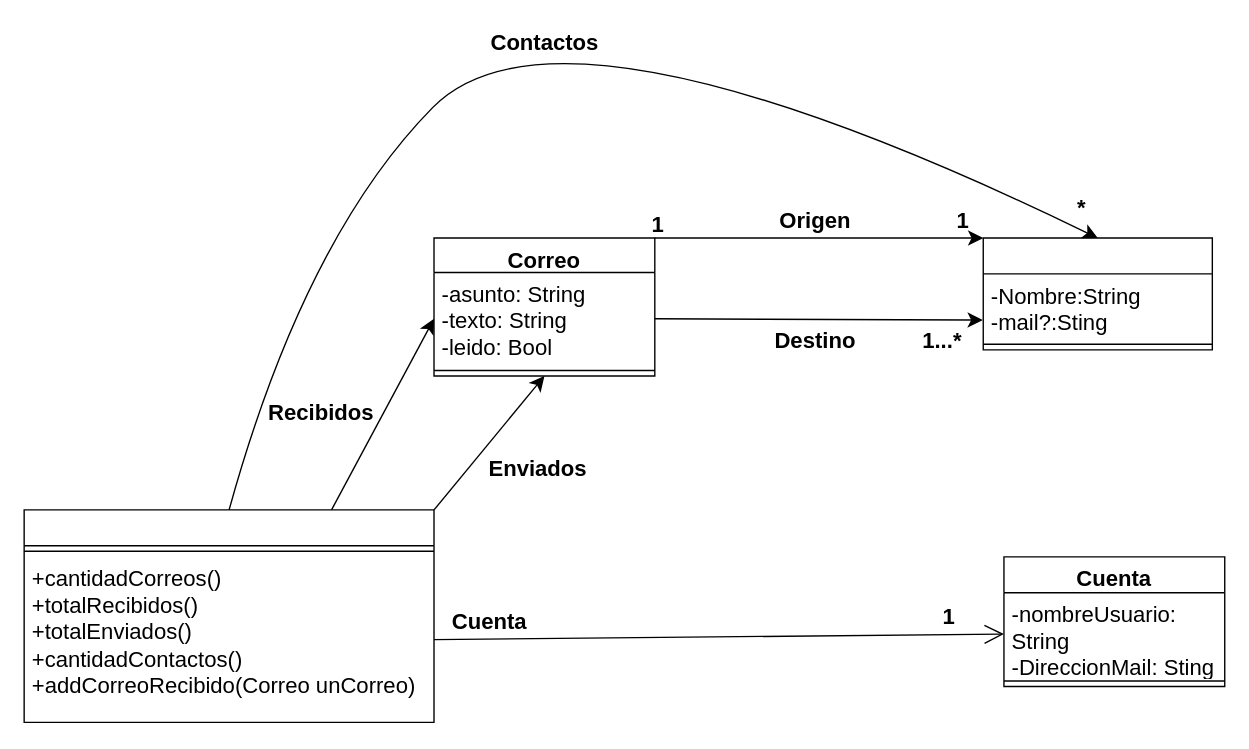
Image size: 1249x749. Some labels were removed from this diagram. Each missing label, with the box of its shape:
ClienteCorreo: (23, 509, 434, 722)
Contacto: (982, 237, 1212, 350)
